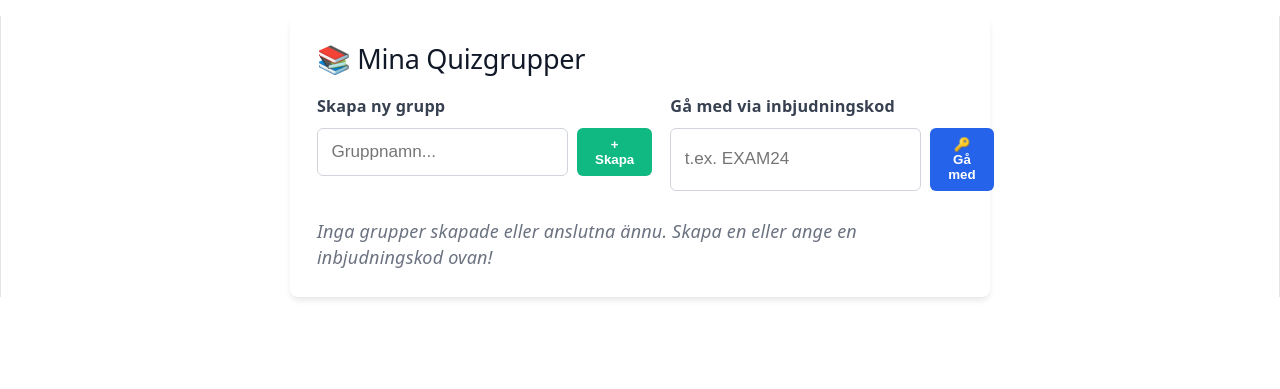
Test: GroupDashboard Component › should create a group and show success message
The width and height of the screenshot is (1280, 389).
Expected: the heading "📚 Mina Quizgrupper" is shown, top-left (317, 40), bottom-right (585, 77)
Type "Ny grupp" into the field with placeholder "Gruppnamn...". click: x=442, y=152
box: top-left (317, 128), bottom-right (568, 176)
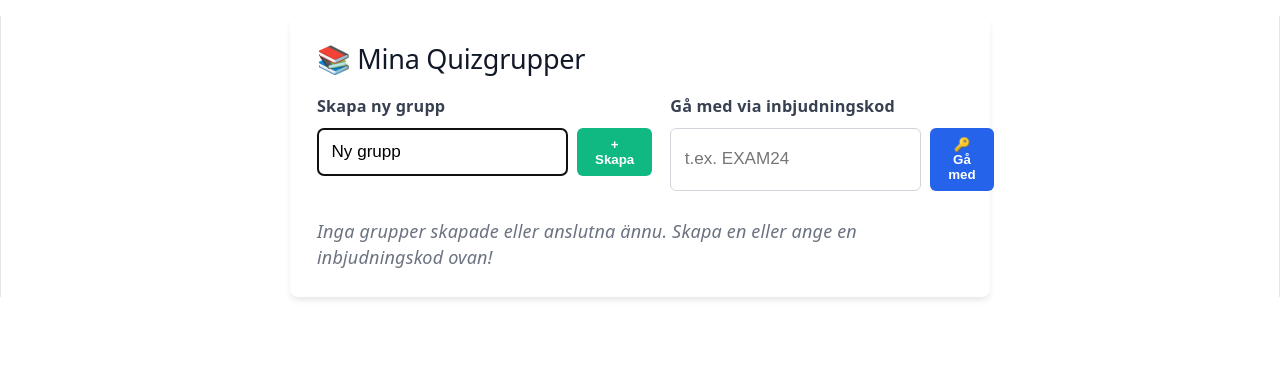
Click the button "+ Skapa". click: x=615, y=152
box: top-left (577, 128), bottom-right (652, 176)
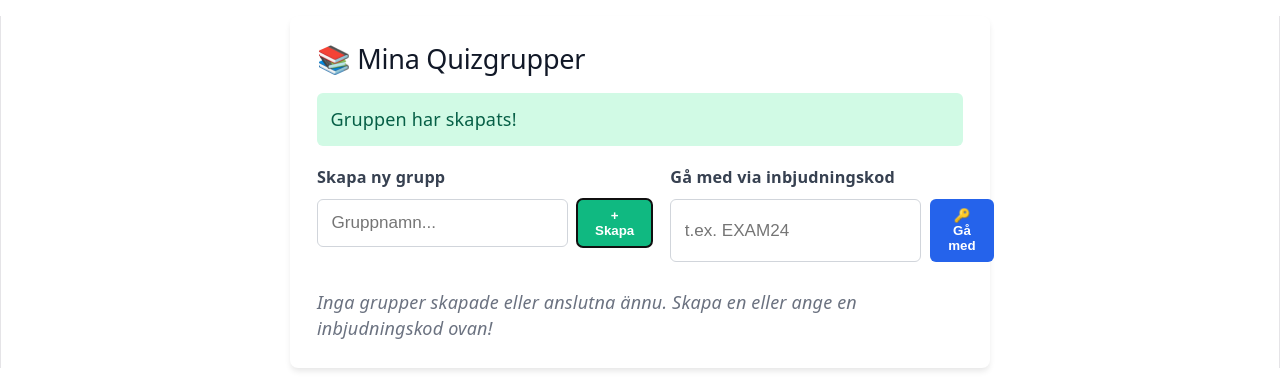
Now the text "Gruppen har skapats!" is shown, box top-left (317, 93), bottom-right (963, 146)
